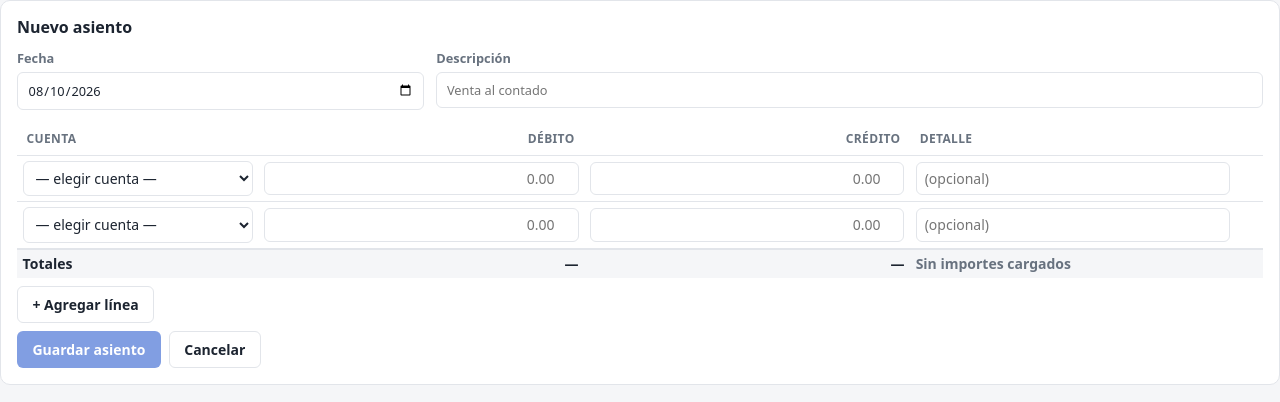
Test case: AsientoNuevo › exige descripción para poder guardar
Select "1.1.01 — Caja" in the 1st dropdown: {"x": 138, "y": 178} [23,161,253,196]
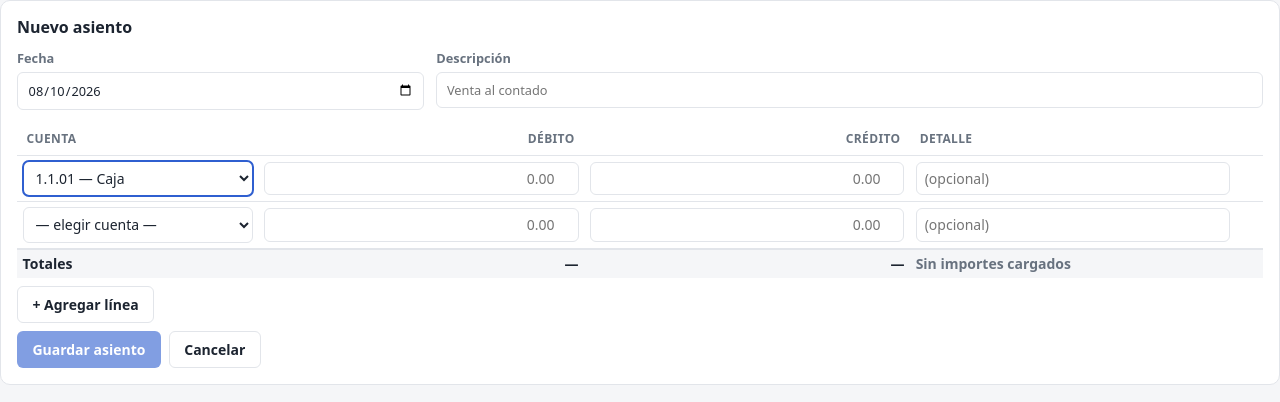
In the 1st number field with placeholder "0.00": {"x": 421, "y": 178} [264,162,579,195], type "100"
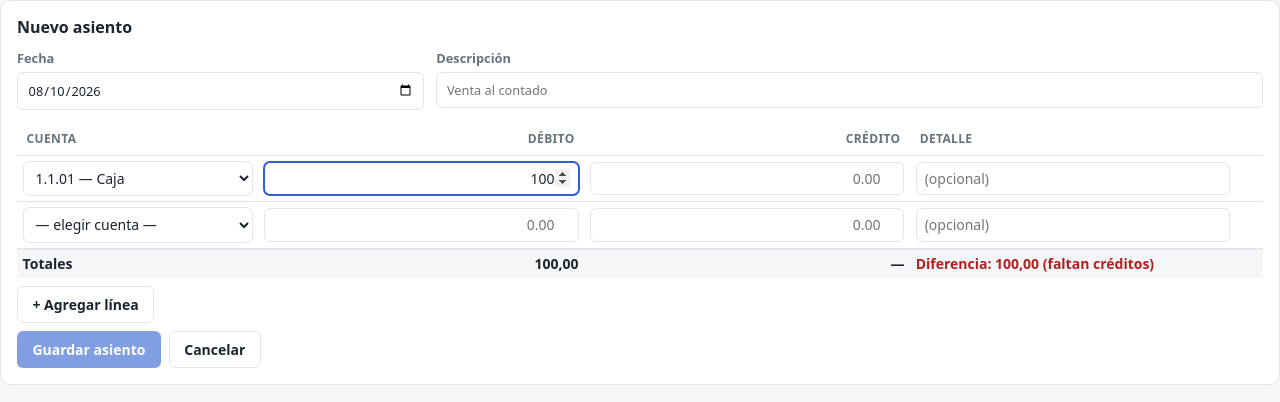
Select "3.1.01 — Capital" in the 2nd dropdown: {"x": 138, "y": 225} [23,207,253,243]
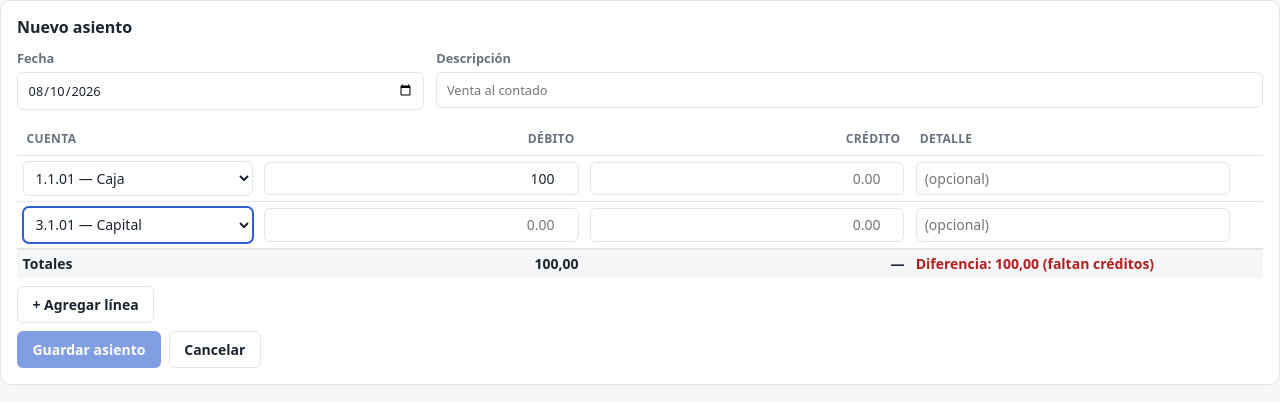
In the 3rd number field with placeholder "0.00": {"x": 747, "y": 225} [590,208,904,242], type "100"
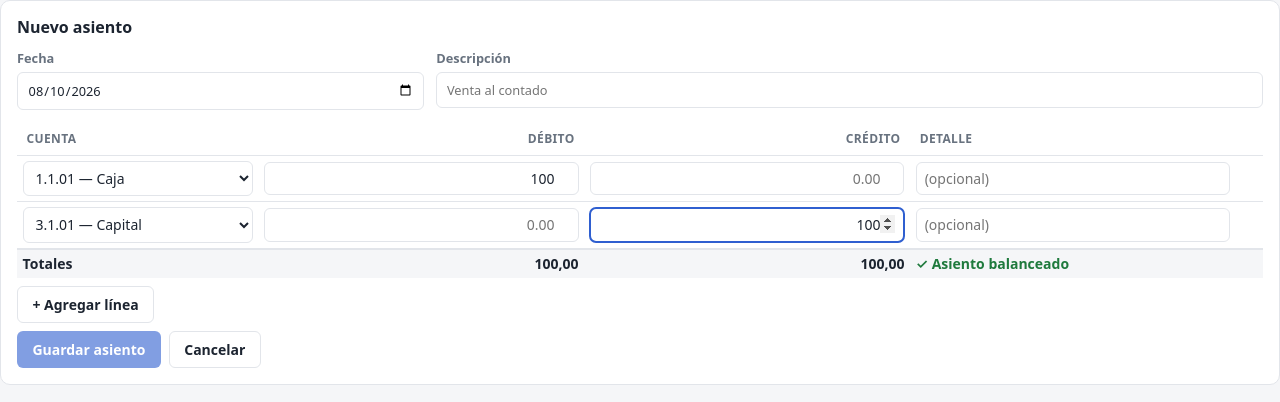
Expected: the button "Guardar asiento" is disabled, [17,331,161,368]
In the field with placeholder "Venta al contado": {"x": 850, "y": 90} [436,72,1263,108], type "Con descripción"
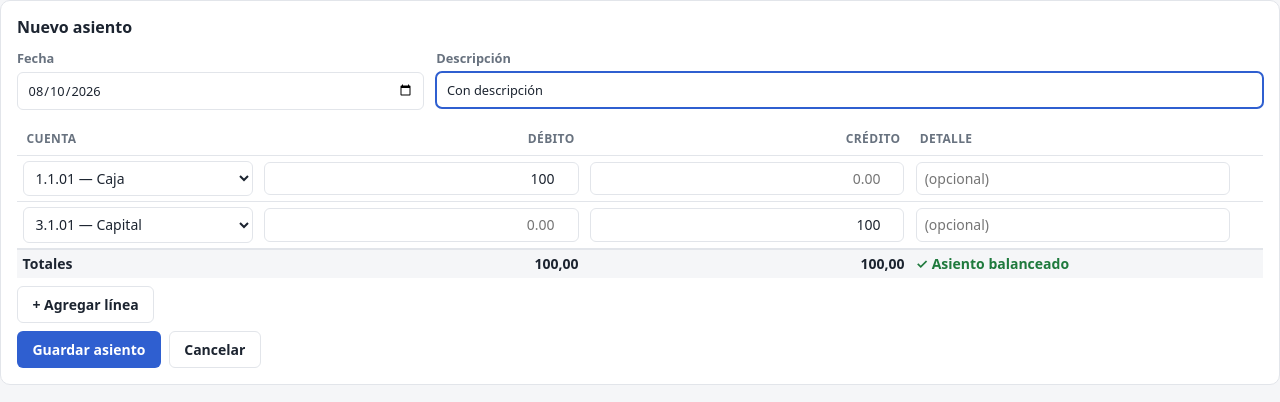
Now the button "Guardar asiento" is enabled, box [17,331,161,368]
